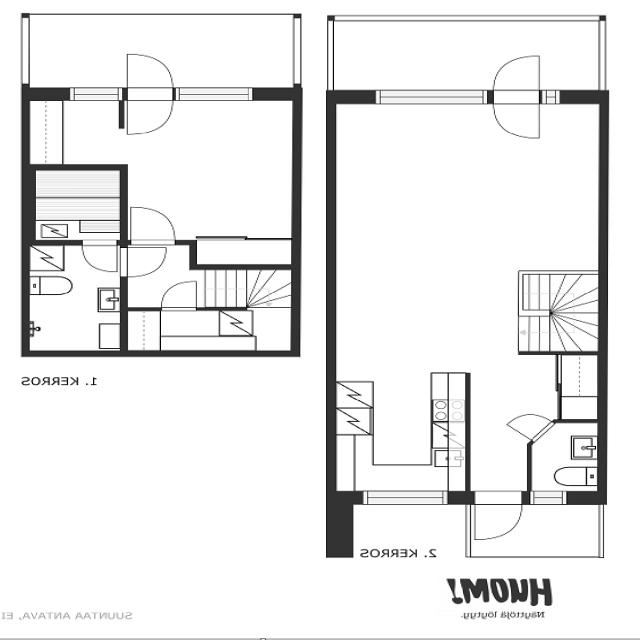door: (489, 52, 546, 143), (469, 494, 525, 544), (122, 92, 176, 137), (125, 203, 182, 245), (123, 50, 179, 90), (118, 243, 170, 280), (78, 240, 124, 275), (156, 278, 202, 313), (506, 412, 550, 439)
window: (368, 86, 486, 110), (172, 84, 261, 105), (359, 488, 451, 507), (61, 83, 125, 104)
zone: (324, 86, 609, 368), (127, 92, 295, 246), (333, 367, 536, 493), (24, 243, 122, 354), (123, 309, 293, 356), (28, 165, 124, 242), (26, 97, 124, 167), (528, 420, 602, 496), (554, 352, 602, 420), (193, 237, 297, 268)
